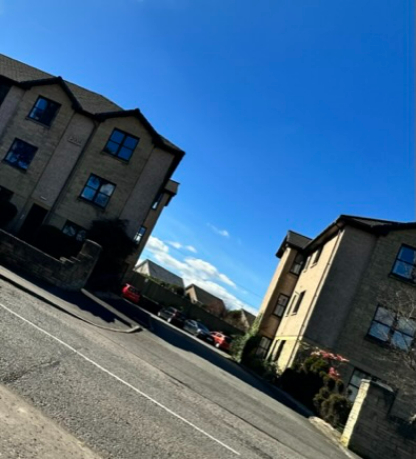car: (157, 299, 184, 328), (180, 319, 215, 338), (210, 330, 237, 348), (123, 278, 144, 301)
